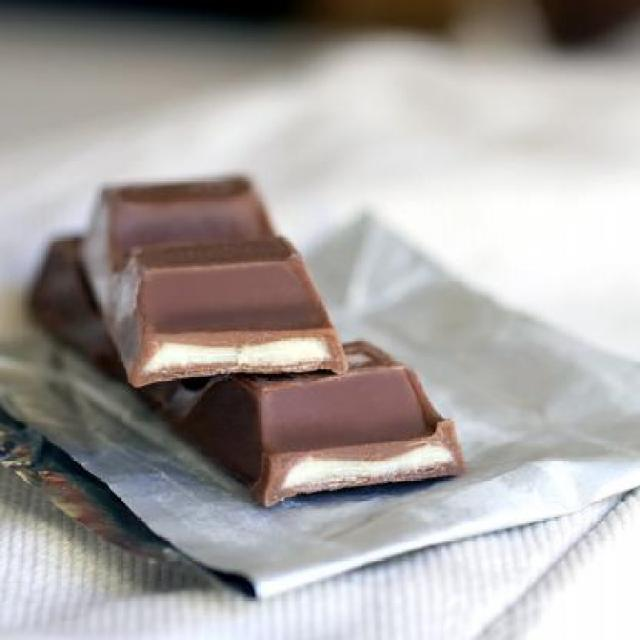Chocolate bar packaged: (32, 233, 471, 512), (79, 178, 347, 386)
